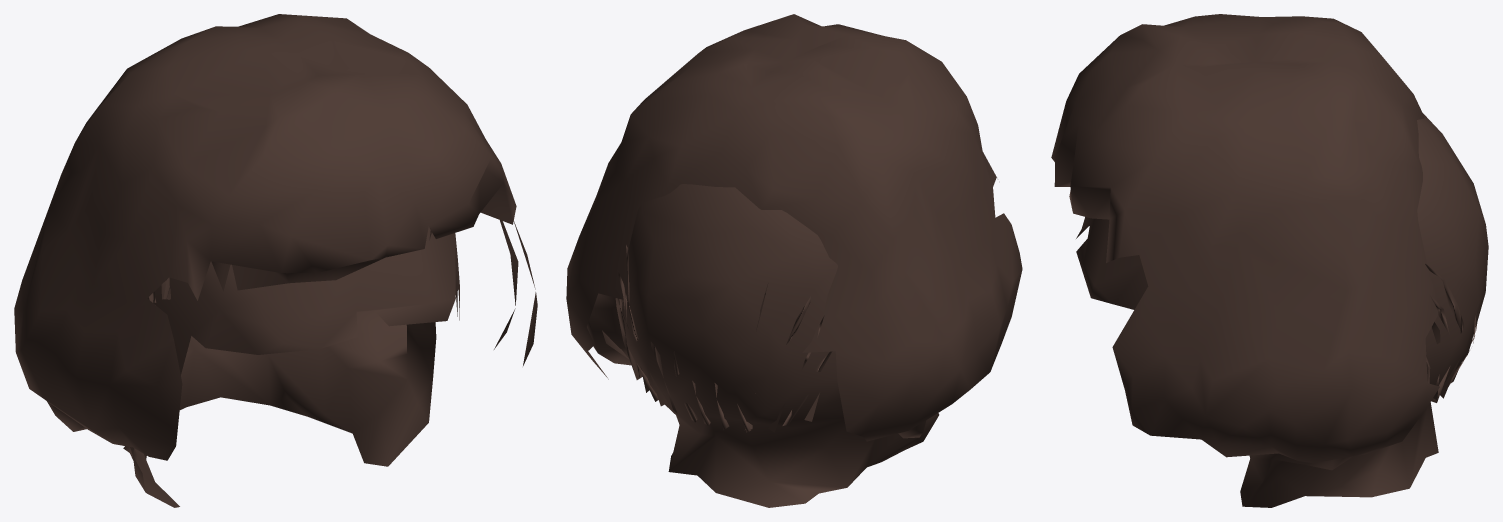
File: blunt-bob.glb
3 views of the same model, side by side, from view 1: azimuth 30°, elevation 25°; view 2: azimuth 150°, elevation 25°; view 3: azimuth 270°, elevation 25° (orthographic). The views are drawn at different scales.
Parts seen in each view (by area): view 1: Hair, HairScalp; view 2: Hair, HairScalp, HairPulledRootStrands; view 3: Hair, HairScalp, HairPulledRootStrands.
Part boxes in pixels (x1=…): Hair: x1=14, y1=14, x2=537, y2=460; HairScalp: x1=47, y1=226, x2=459, y2=507; Hair: x1=566, y1=14, x2=1022, y2=441; HairScalp: x1=587, y1=184, x2=939, y2=507; HairPulledRootStrands: x1=615, y1=245, x2=832, y2=432; Hair: x1=1051, y1=14, x2=1439, y2=463; HairScalp: x1=1076, y1=113, x2=1488, y2=507; HairPulledRootStrands: x1=1425, y1=264, x2=1481, y2=402.
Bounding box in the file's own units: 0.5099 × 0.4851 × 0.4536.
